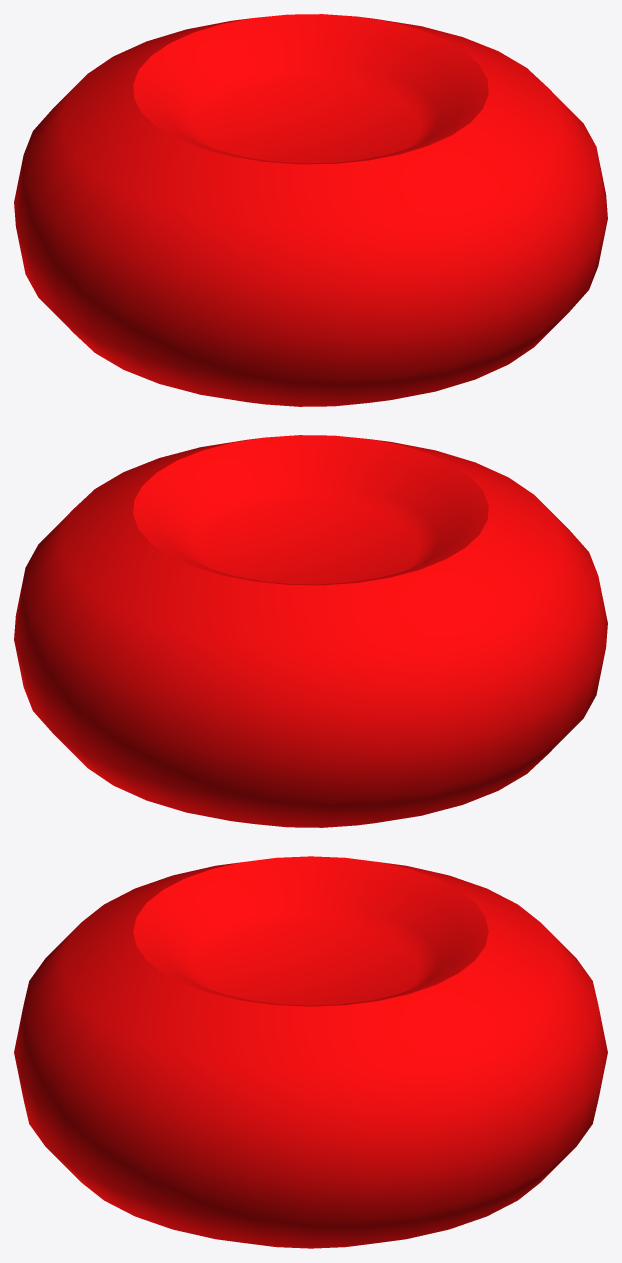
Rendered from circle.red (1).fbx.
3 views of the same model, one above another, from view 1: azimuth 30°, elevation 25°; view 2: azimuth 150°, elevation 25°; view 3: azimuth 270°, elevation 25° (orthographic).
Parts seen in each view (by area): view 1: Circle.red; view 2: Circle.red; view 3: Circle.red.
Boxes of the visible parts, x1=… form: Circle.red: x1=14, y1=14, x2=607, y2=406; Circle.red: x1=14, y1=435, x2=607, y2=827; Circle.red: x1=14, y1=856, x2=607, y2=1248.
Size of the model in its own units: 33.73 by 15.16 by 33.73.
